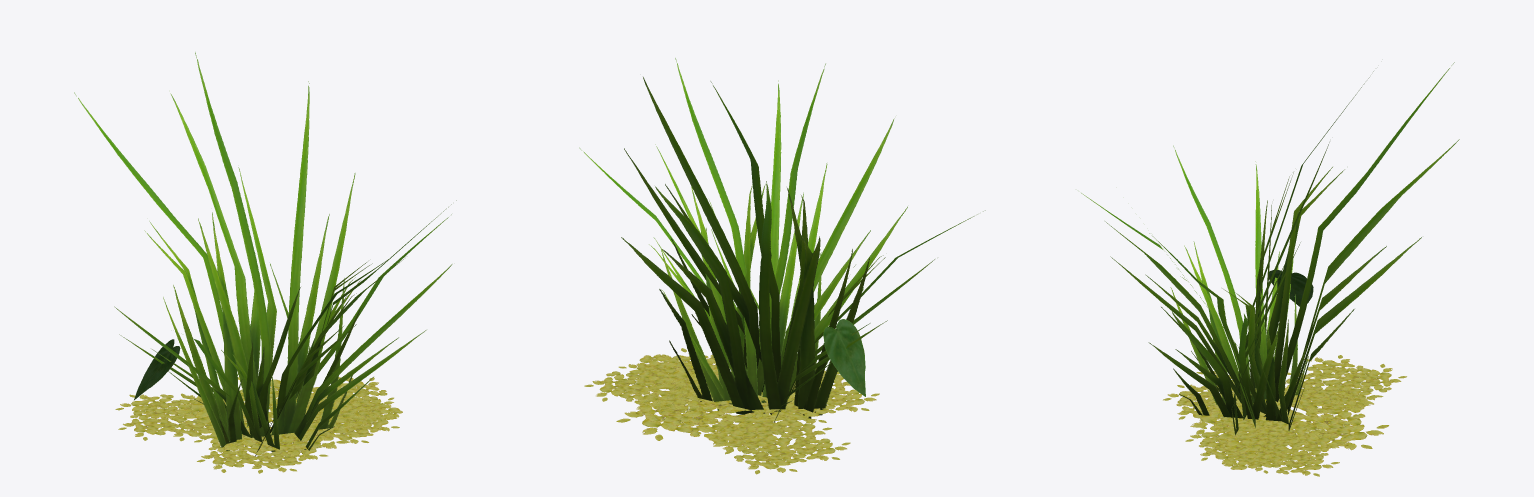
File: leafplant2_lod2.fbx
The picture shows the model from 3 angles, left to right: view 1: azimuth 30°, elevation 25°; view 2: azimuth 150°, elevation 25°; view 3: azimuth 270°, elevation 25°; orthographic projection. The views are drawn at different scales.
Visible parts, largest first — view 1: Mesh Object; view 2: Mesh Object; view 3: Mesh Object.
Part boxes in pixels (x1,y1,x2,y2): Mesh Object: (74,52,456,473); Mesh Object: (579,58,985,474); Mesh Object: (1081,62,1459,476).
Size of the model in its own units: 3.43 by 3.02 by 3.57.
